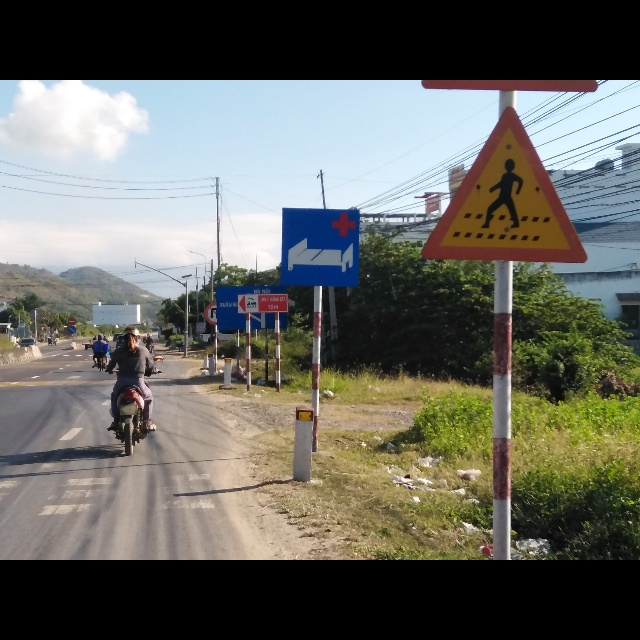Bệnh viện: (281, 207, 358, 288)
Đường người đi bộ sang đường: (419, 102, 600, 262)
